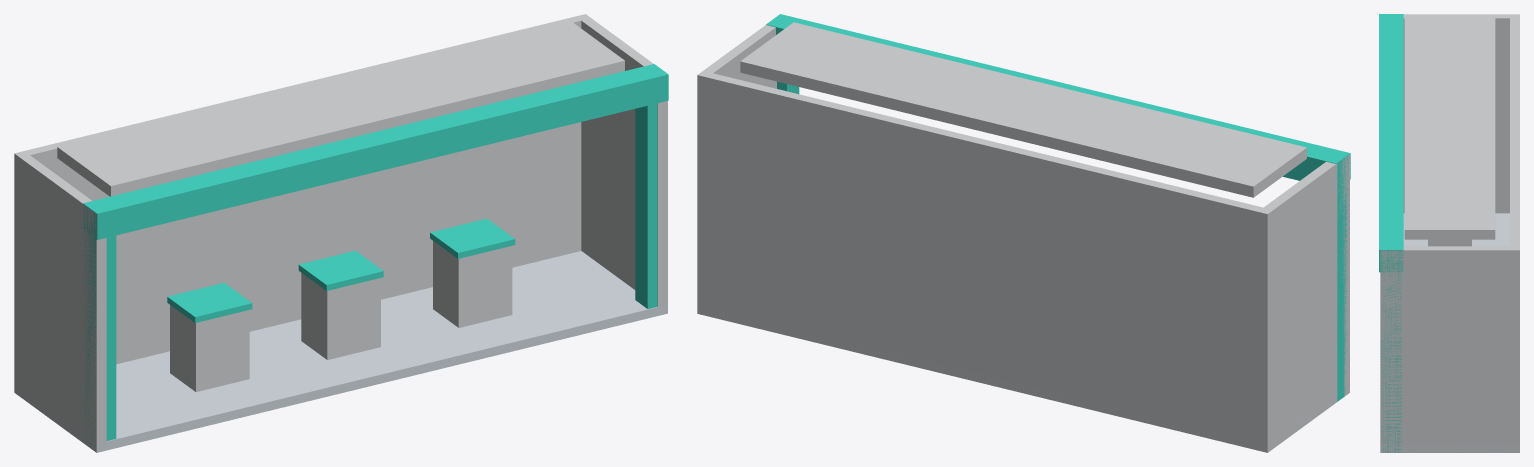
The picture shows the model from 3 angles, left to right: view 1: azimuth 30°, elevation 25°; view 2: azimuth 150°, elevation 25°; view 3: azimuth 270°, elevation 25°; orthographic projection. The views are drawn at different scales.
Parts seen in each view (by area): view 1: Exhibition Booth Concept; view 2: Exhibition Booth Concept; view 3: Exhibition Booth Concept.
Boxes of the visible parts, box(x1,y1,x2,y2) form: Exhibition Booth Concept: box(14, 14, 668, 452); Exhibition Booth Concept: box(697, 14, 1350, 452); Exhibition Booth Concept: box(1379, 14, 1519, 452).
Size of the model in its own units: 8 by 3.34 by 2.01.
